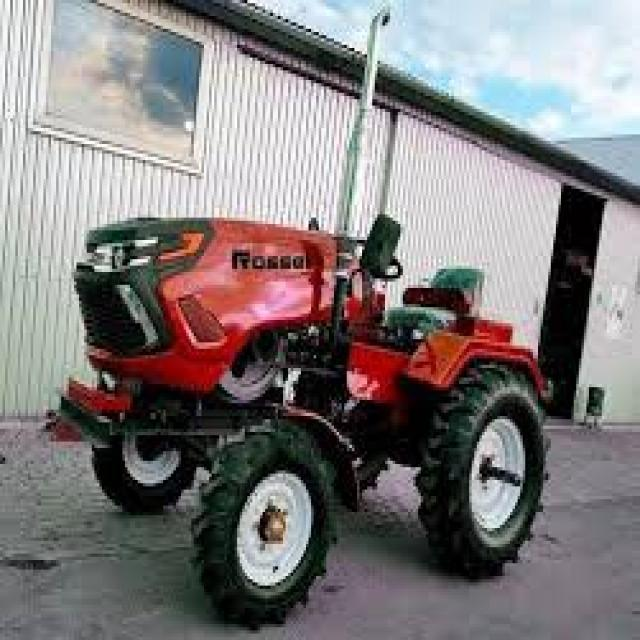Tratores - v5 YOLO V8L 2024-11-13: (63, 170, 571, 640)
